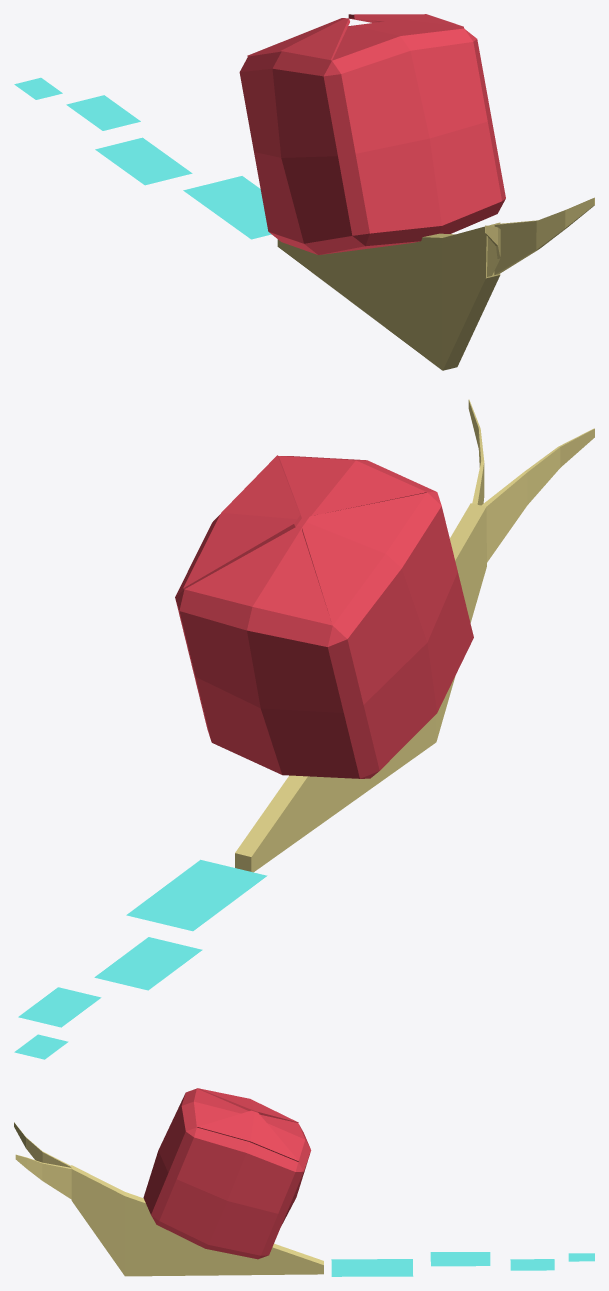
File: SNAIL_BIG.fbx
The picture shows the model from 3 angles, top to bottom: view 1: azimuth 30°, elevation 25°; view 2: azimuth 150°, elevation 25°; view 3: azimuth 270°, elevation 25°; orthographic projection. The views are drawn at different scales.
Parts seen in each view (by area): view 1: ESCARGOT_2.002; view 2: ESCARGOT_2.002; view 3: ESCARGOT_2.002.
Boxes of the visible parts, box(x1,y1,x2,y2) form: ESCARGOT_2.002: box(14, 14, 594, 370); ESCARGOT_2.002: box(14, 399, 594, 1059); ESCARGOT_2.002: box(14, 1088, 594, 1276).
Bounding box in the file's own units: 151 × 228 × 686.
